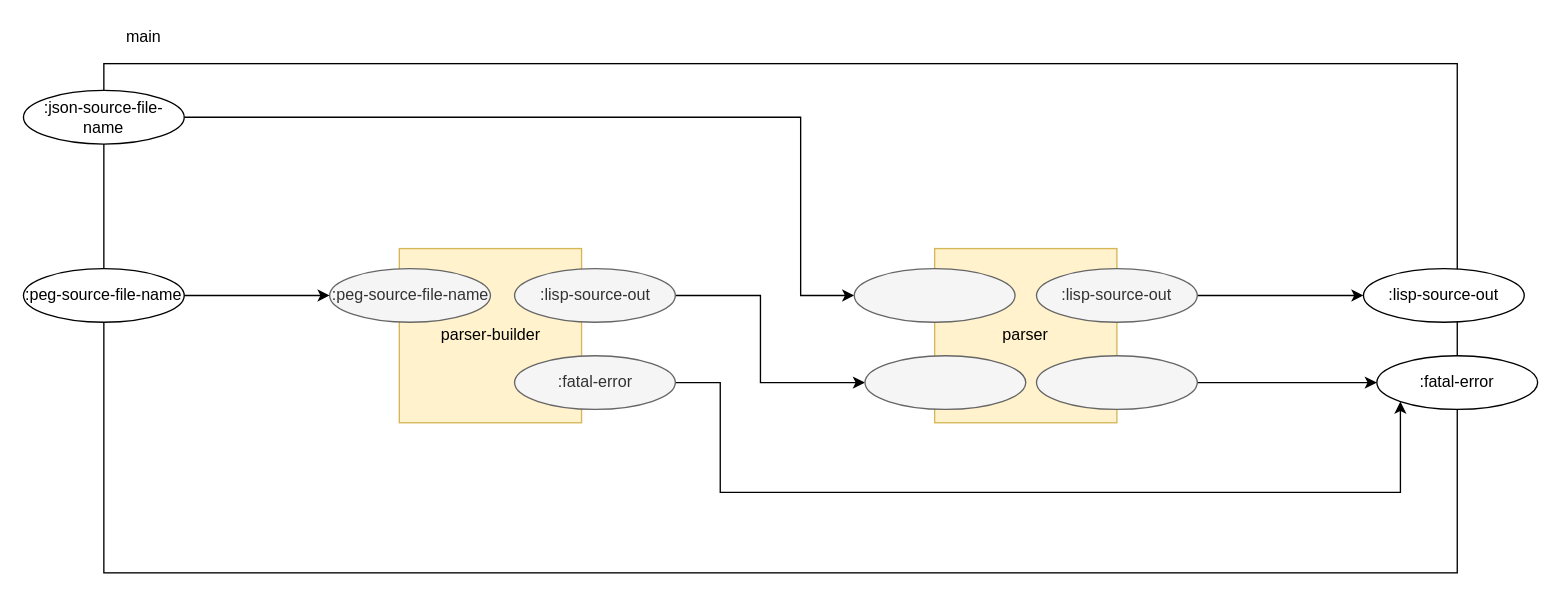
This 1561x596 diagram has some shape labels left out. The shapes that lost their labels are listed below. From the top down, each one's centre as x and y in pixels, then its label:
point (934, 294): :source-to-be-parsed
point (945, 381): :lisp-parser-source
point (1116, 381): :fatal
